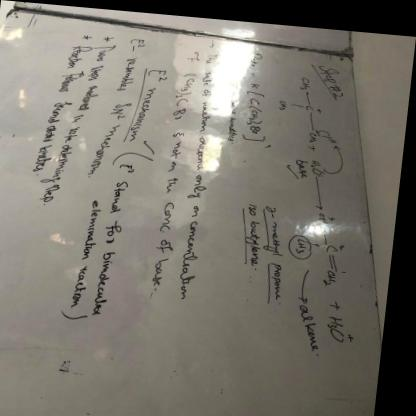Handwritten text: (35, 33, 121, 214), (179, 47, 222, 298), (28, 36, 93, 179), (153, 137, 191, 289), (98, 175, 136, 318), (74, 197, 107, 311), (83, 114, 127, 183), (124, 76, 165, 149), (268, 214, 295, 296), (299, 295, 332, 347), (112, 48, 142, 96), (248, 213, 268, 265), (316, 55, 342, 79), (225, 109, 245, 139), (296, 149, 315, 175), (184, 44, 202, 65)
Whiteboard: (0, 8, 378, 416)
